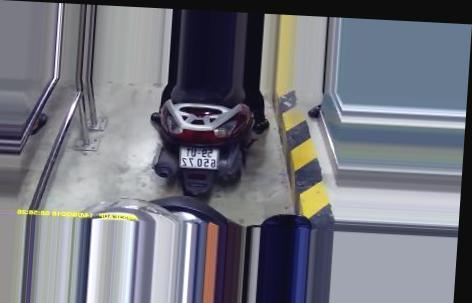License_Plate: (178, 139, 221, 173)
